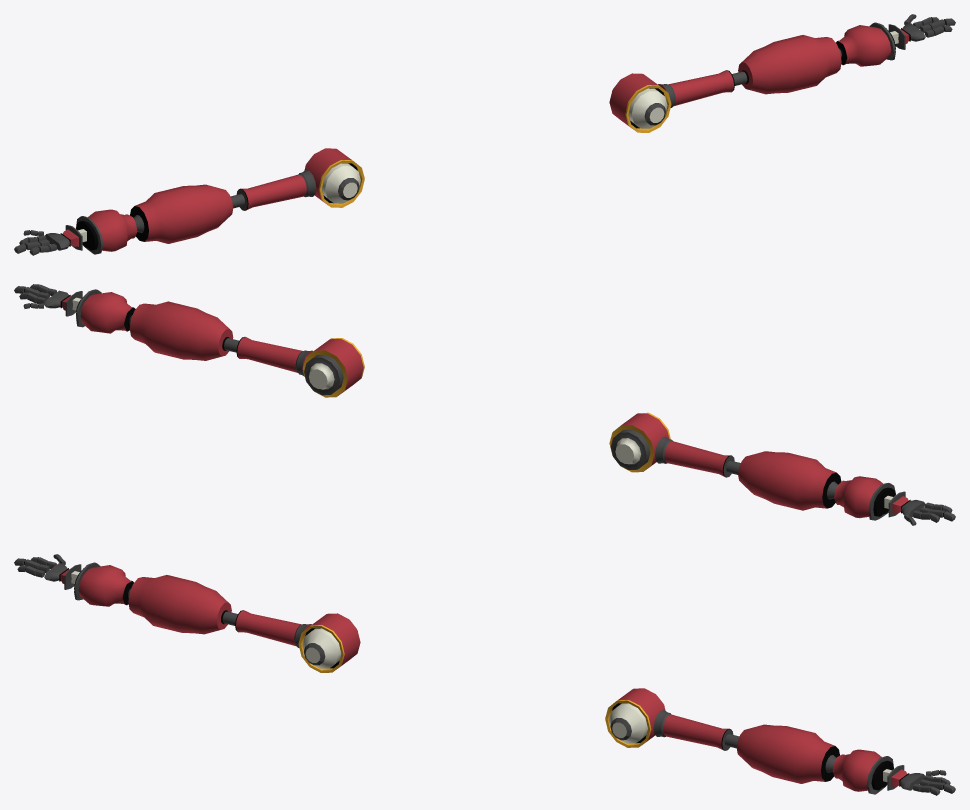
File: Grabber_Base.fbx
The picture shows the model from 3 angles, top to bottom: view 1: azimuth 30°, elevation 25°; view 2: azimuth 150°, elevation 25°; view 3: azimuth 330°, elevation 25°; orthographic projection.
Parts seen in each view (by area): view 1: Arms; view 2: Arms; view 3: Arms.
Part boxes in pixels (x1=…): Arms: x1=14, y1=14, x2=955, y2=255; Arms: x1=14, y1=284, x2=955, y2=525; Arms: x1=14, y1=554, x2=955, y2=795.
Size of the model in its own units: 3.22 by 0.1557 by 0.2115.
